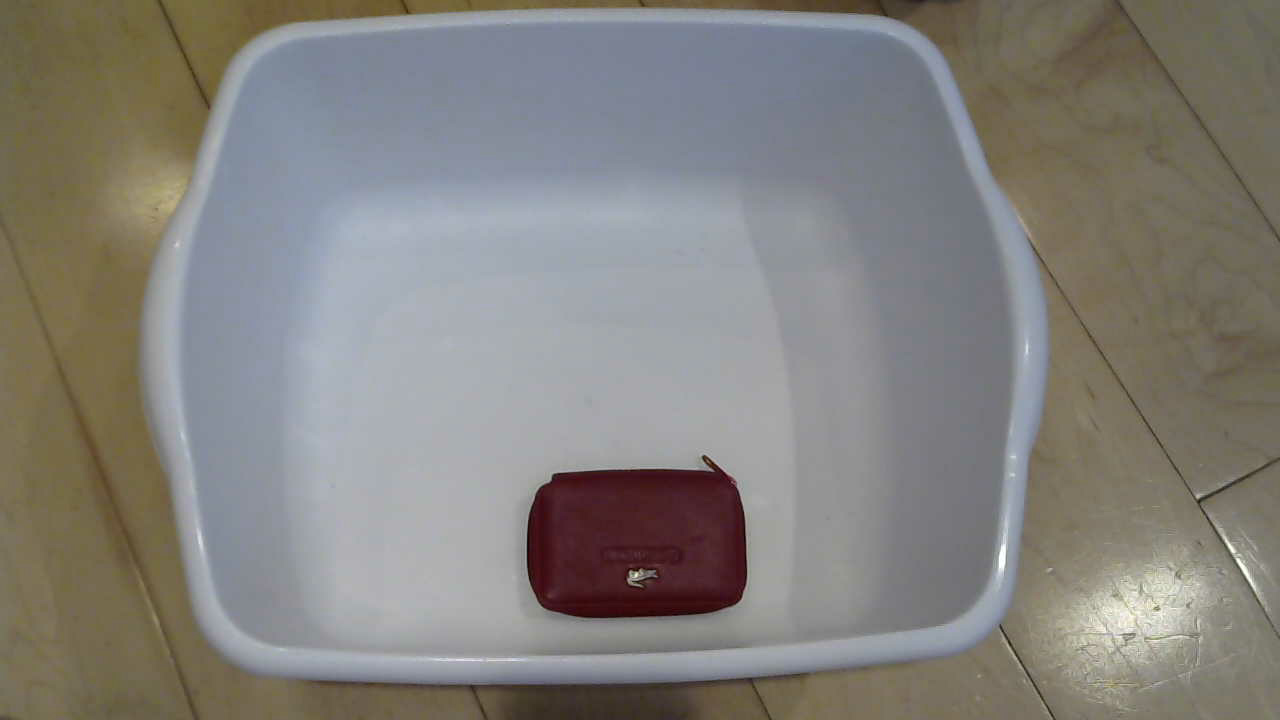wallet: (502, 462, 759, 628)
